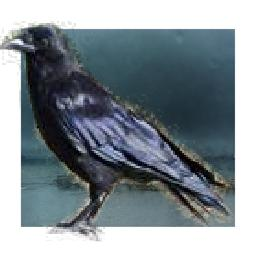Crow: (1, 16, 234, 243)
